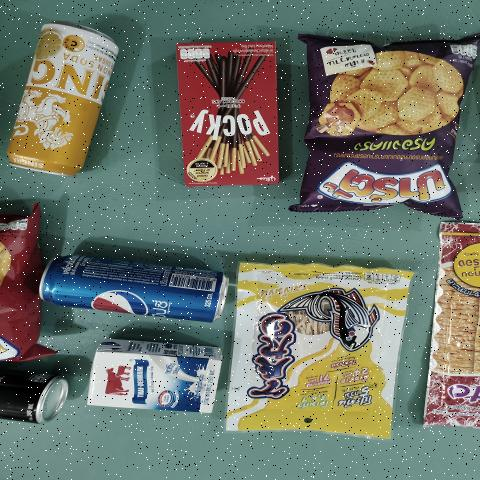party_purple: (320, 36, 448, 209)
pepsi_blue: (44, 246, 226, 328)
pokki: (187, 39, 280, 184)
singha_yellow: (5, 42, 122, 174)
taro_yellow: (225, 275, 407, 434)
thai_denmark: (88, 352, 221, 408)
